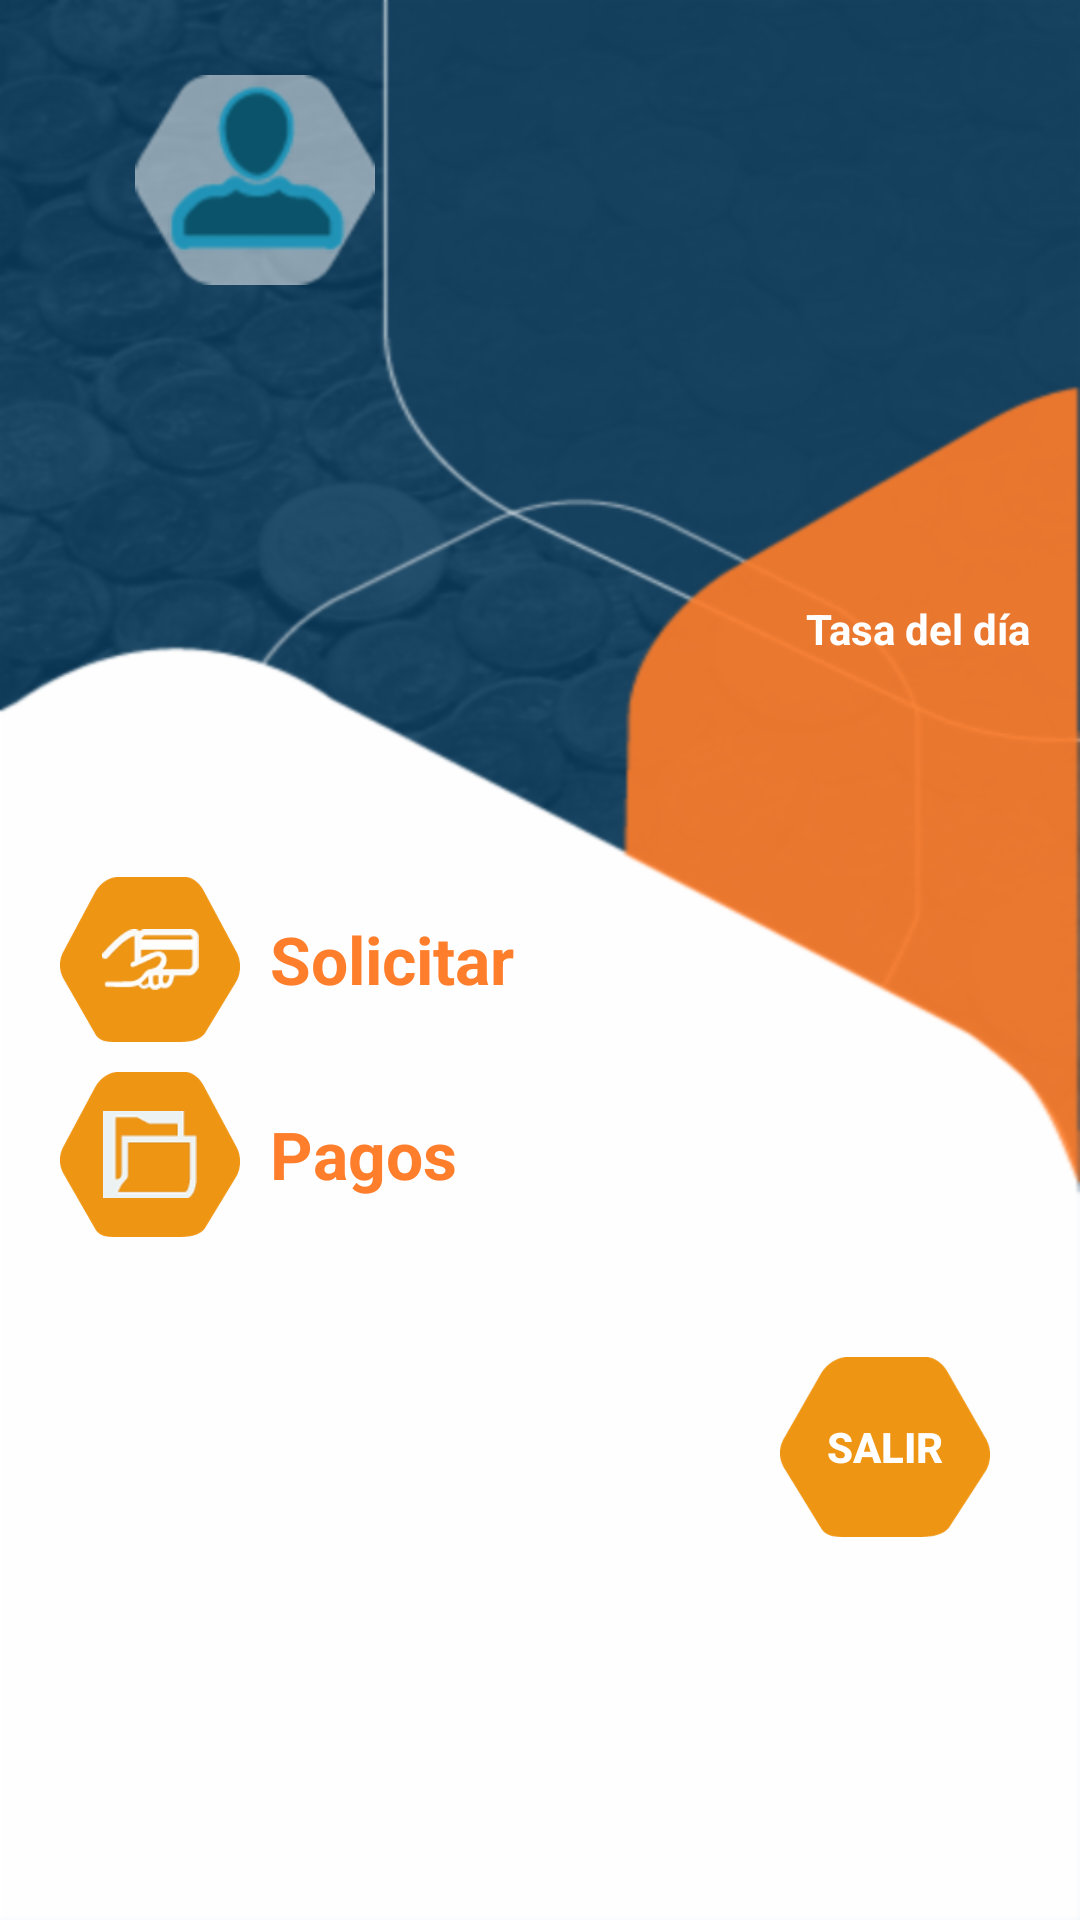

Locate icon controls on the screen. Image size 1080x1920, boxes as (left=x1, top=y1, right=x2, bottom=y2).
usuarios: (left=135, top=75, right=375, bottom=285)
